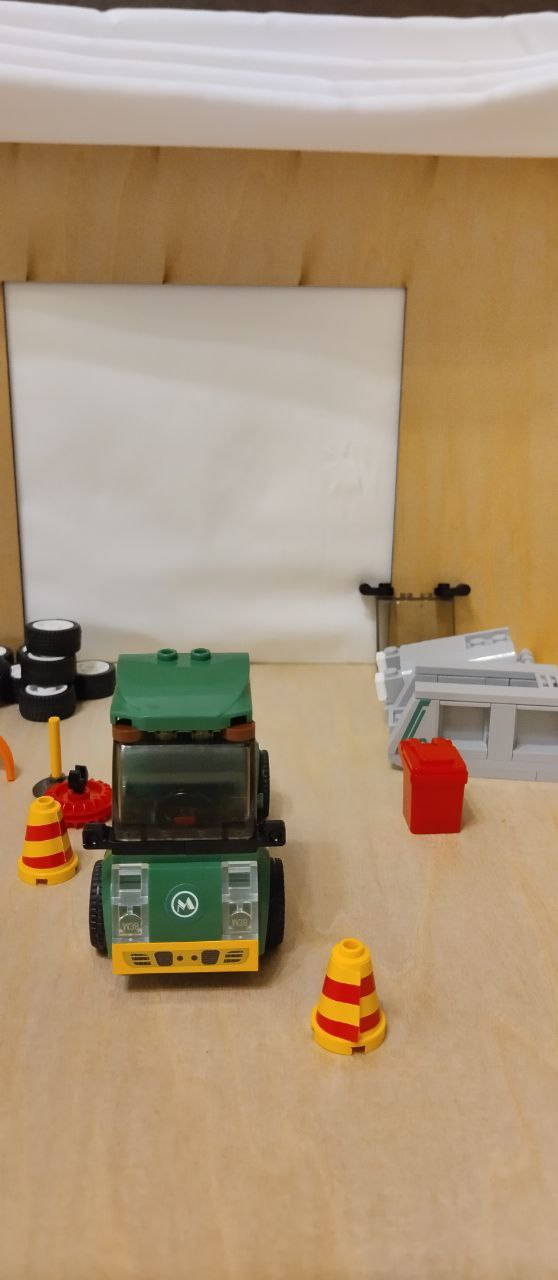Cone: (308, 931, 394, 1060), (13, 798, 88, 886)
Object Red: (401, 734, 469, 839)
Truck: (83, 646, 300, 986)
